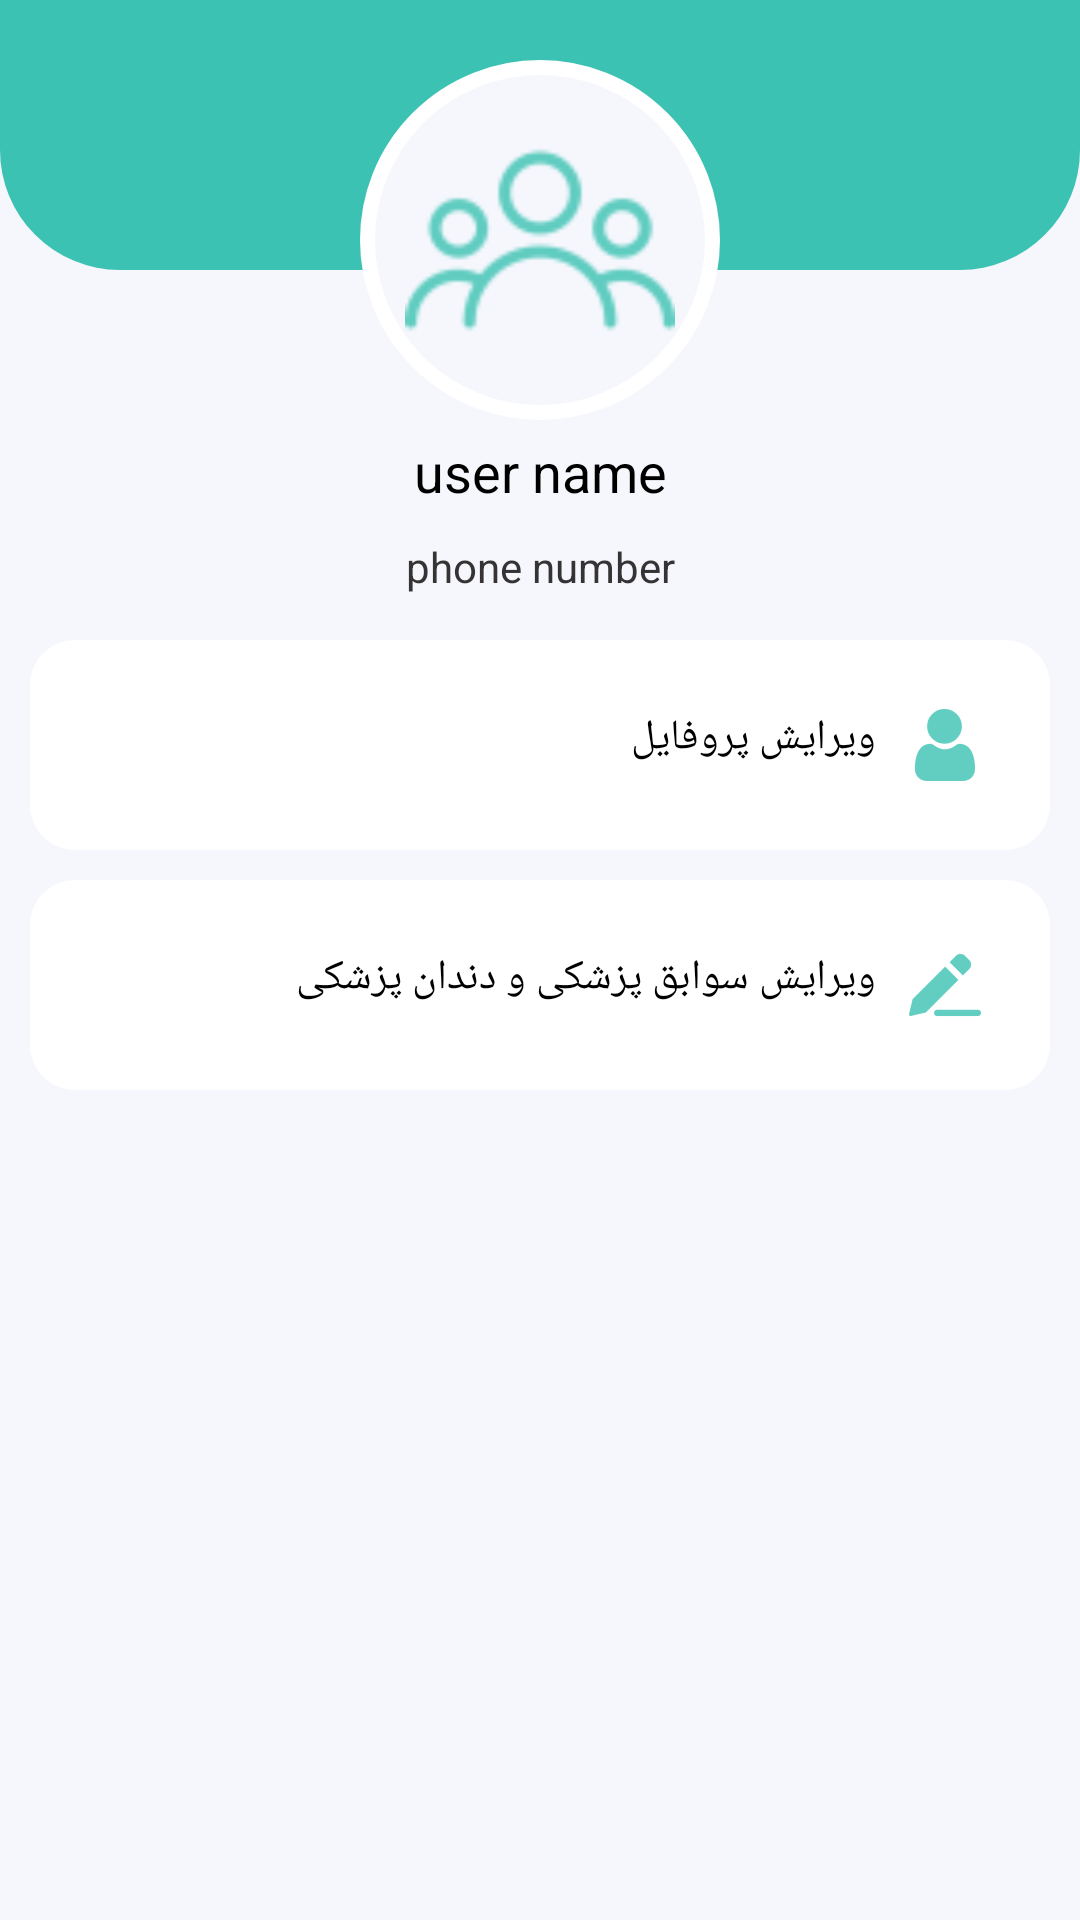

Screen size 1080px×1920px. Icon name, then its center in pixels as (x=x, y=y):
pencil: (x=945, y=985)
user profile: (x=945, y=745)
users club: (x=540, y=240)
